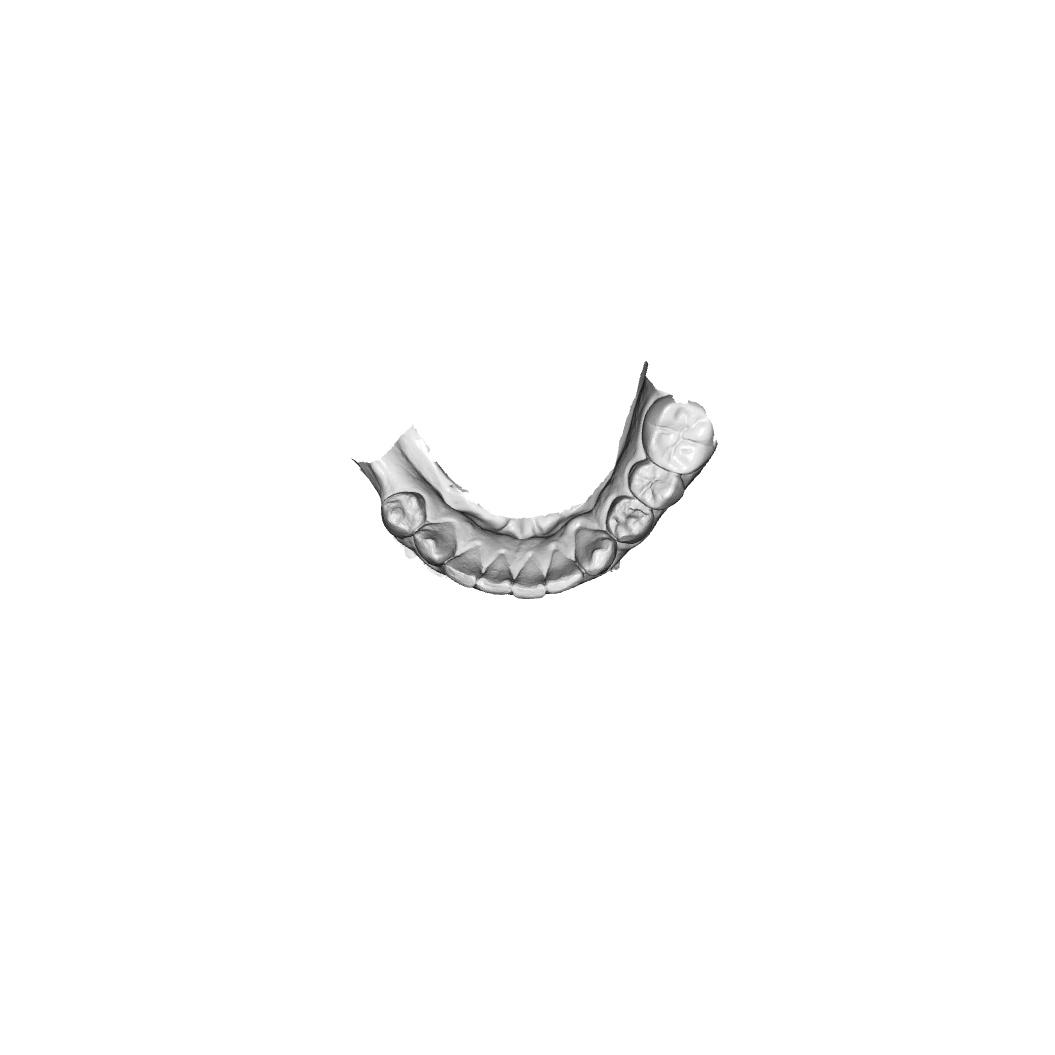canine: (573, 527, 618, 577), (411, 521, 458, 567)
incisor: (544, 549, 585, 595), (443, 544, 482, 589), (475, 553, 512, 596), (511, 557, 547, 601)
molar: (640, 394, 718, 476)
premolar: (627, 459, 685, 511), (605, 495, 655, 544), (380, 491, 427, 539)
